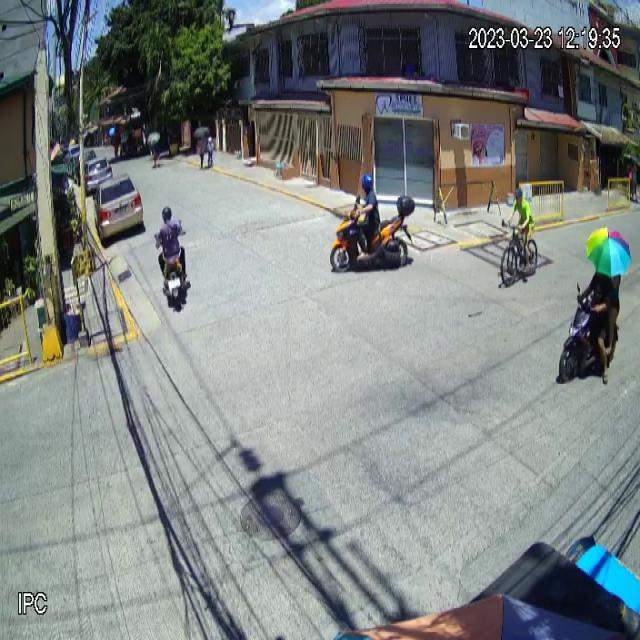Motorcycle: (330, 195, 415, 272)
